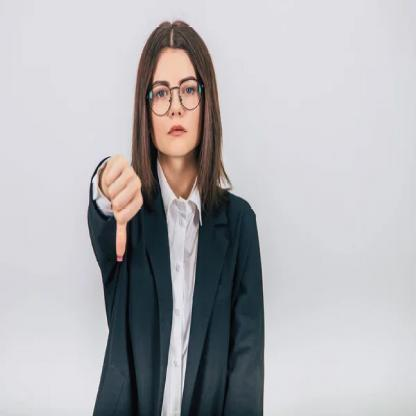thumb_down: (98, 144, 148, 265)
